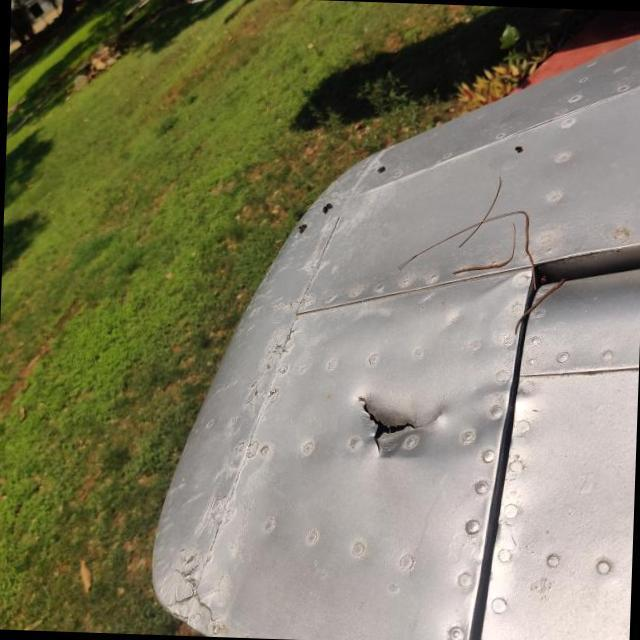Rupture: (347, 386, 456, 467)
